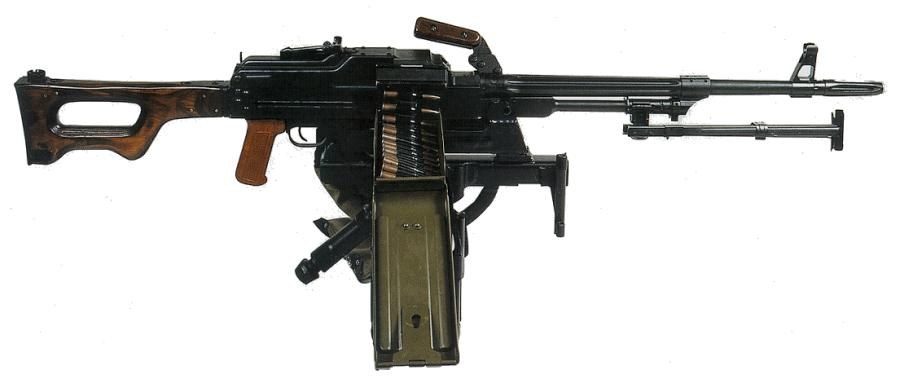rifle: (19, 24, 885, 337)
